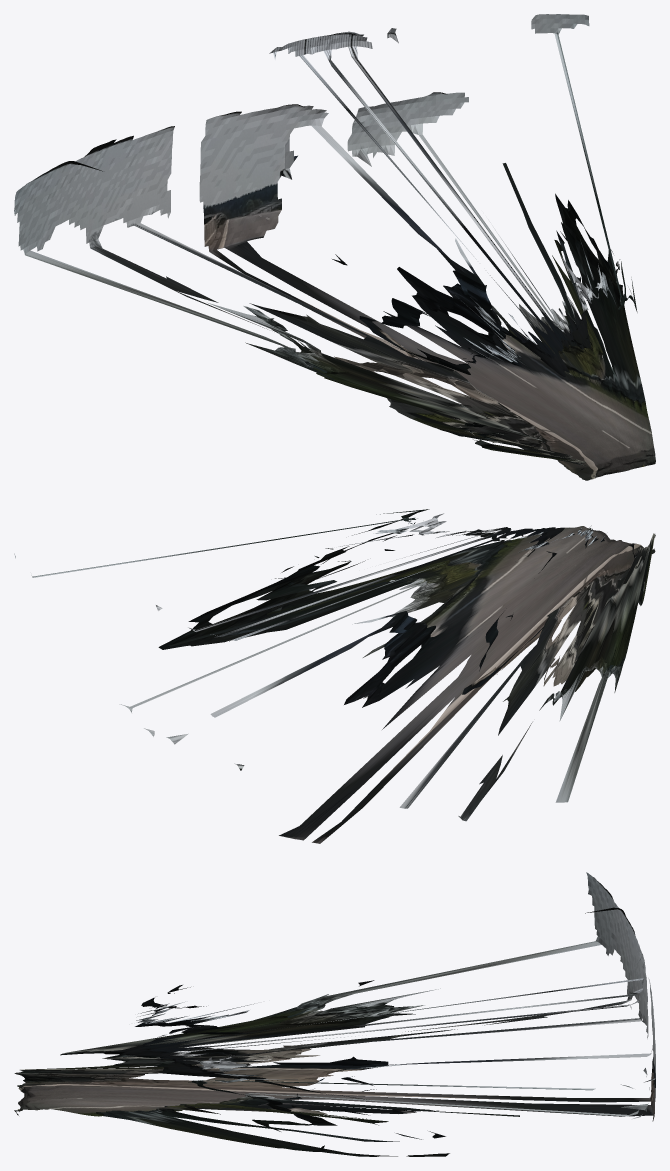
The picture shows the model from 3 angles, top to bottom: view 1: azimuth 30°, elevation 25°; view 2: azimuth 150°, elevation 25°; view 3: azimuth 270°, elevation 25°; orthographic projection. The views are drawn at different scales.
Visible parts, largest first — view 1: defaultobject; view 2: defaultobject; view 3: defaultobject.
Part boxes in pixels (<box>): defaultobject: <box>14,14,655,480</box>; defaultobject: <box>14,509,655,843</box>; defaultobject: <box>14,872,655,1156</box>.
Size of the model in its own units: 40.75 by 13.4 by 44.53.
1 material, 1 textured.
